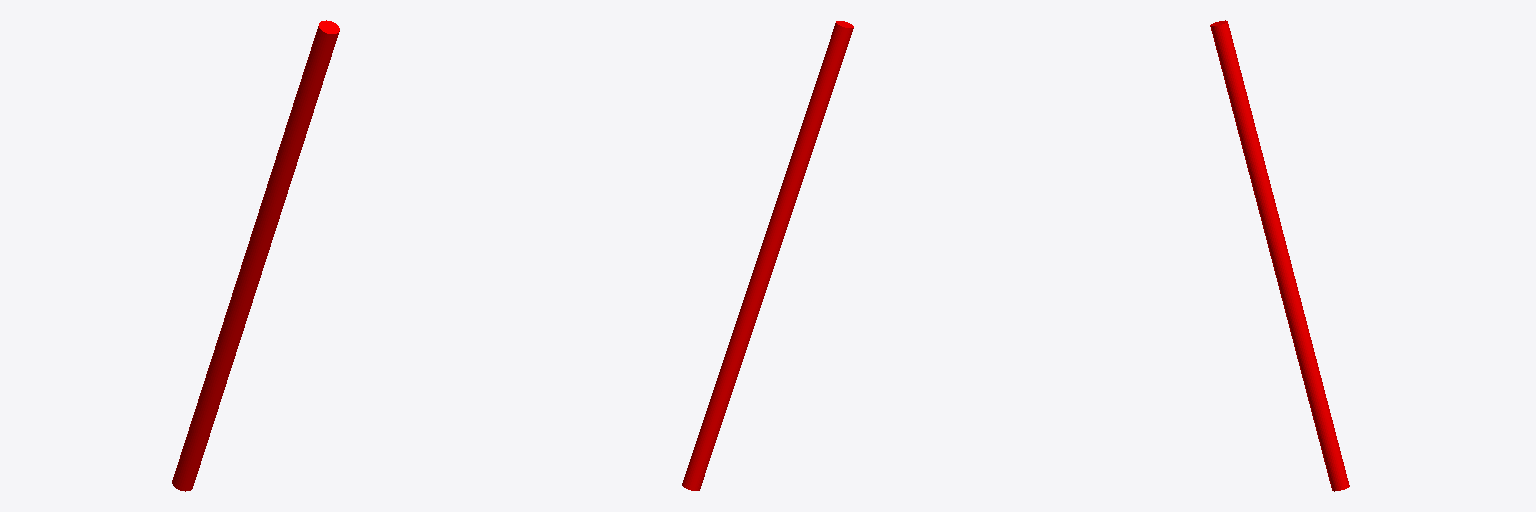
The robot description file, URDF, robot "tree_16.urdf":
<?xml version='1.0' encoding='utf-8'?>
<robot name="tree_16.urdf">
  <link name="branch_0">
    <inertial>
      <origin xyz="0.0 0.0 0.0" rpy="0.0 -0.0 0.0" />
      <mass value="1.0" />
      <inertia ixx="1.0" ixy="0.0" ixz="0.0" iyy="1.0" iyz="0.0" izz="1.0" />
    </inertial>
    <visual name="branch_0_visual">
      <geometry>
        <cylinder radius="0.048564732780250267" length="2.632392683107045" />
      </geometry>
      <material name="semantic_material" />
      <origin xyz="-0.2699509089093392 -0.3259991683725415 1.2462840200043928" rpy="5.551115123125783e-17 0.3273956353377533 -2.2624217370595643" />
    </visual>
    <collision name="branch_0_collision">
      <geometry>
        <cylinder radius="0.048564732780250267" length="2.632392683107045" />
      </geometry>
      <origin xyz="-0.2699509089093392 -0.3259991683725415 1.2462840200043928" rpy="5.551115123125783e-17 0.3273956353377533 -2.2624217370595643" />
    </collision>
  </link>
  <material name="semantic_material">
    <color rgba="1. 0. 0. 1." />
  </material>
</robot>

--- What the picture shows (computed from the rendered views, not written in the file) ---
Views: 3 orthographic renders of the robot side by side, from view 1: azimuth 90°, elevation 25°; view 2: azimuth 150°, elevation 25°; view 3: azimuth 270°, elevation 25°.
Model tree_16.urdf with 1 links and 0 joints (none), rooted at branch_0, posed every joint at zero.
Visible links, largest first — view 1: branch_0; view 2: branch_0; view 3: branch_0.
Link boxes in pixels (left/top/right/bottom): branch_0: left=172, top=20, right=339, bottom=491; branch_0: left=682, top=21, right=853, bottom=490; branch_0: left=1210, top=20, right=1349, bottom=491.
Size in the robot's own frame: 0.6347 by 0.7459 by 2.52 metres.
Geometry: primitives only (box / cylinder / sphere), no mesh files.